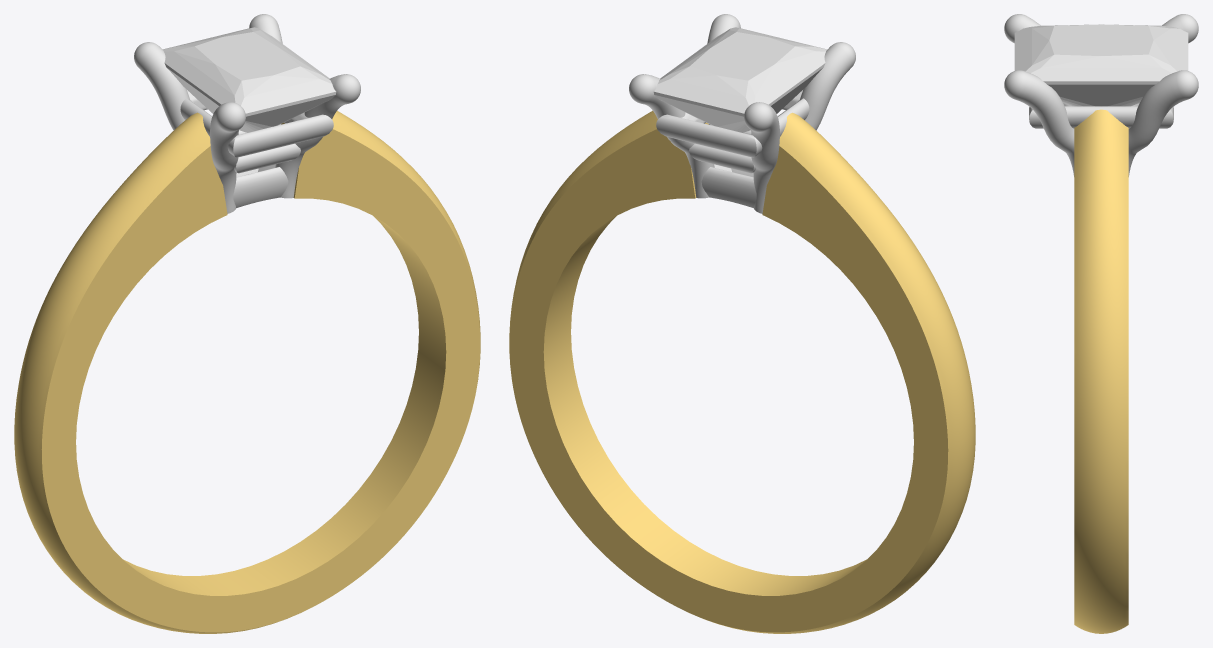
File: Meredith_eng_v2_blender.glb
The picture shows the model from 3 angles, left to right: view 1: azimuth 30°, elevation 25°; view 2: azimuth 150°, elevation 25°; view 3: azimuth 270°, elevation 25°; orthographic projection.
Parts seen in each view (by area): view 1: eng alone YG for 3d model, hof style PT head for 3d model, eng alone dia for 3d model; view 2: eng alone YG for 3d model, hof style PT head for 3d model, eng alone dia for 3d model; view 3: eng alone YG for 3d model, eng alone dia for 3d model, hof style PT head for 3d model.
Boxes of the visible parts, x1,y1,x2,y2 form: eng alone YG for 3d model: (14, 111, 480, 633); hof style PT head for 3d model: (134, 14, 360, 213); eng alone dia for 3d model: (162, 27, 336, 132); eng alone YG for 3d model: (509, 110, 975, 633); hof style PT head for 3d model: (629, 14, 855, 213); eng alone dia for 3d model: (653, 27, 827, 132); eng alone YG for 3d model: (1074, 109, 1128, 633); eng alone dia for 3d model: (1014, 24, 1188, 106); hof style PT head for 3d model: (1004, 14, 1198, 176).
Size of the model in its own units: 19.27 by 23.04 by 7.12.
